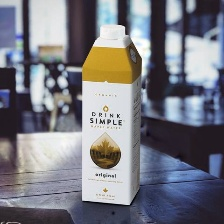carton: (80, 15, 145, 205)
